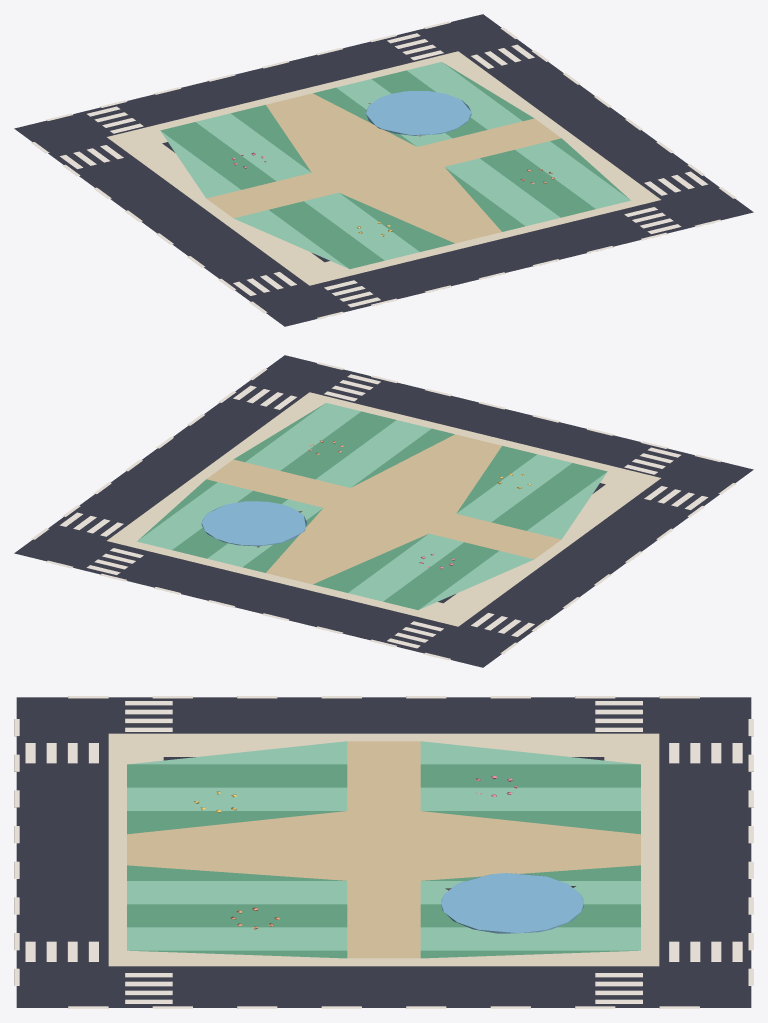
The model's file is tile_park.glb.
The picture shows the model from 3 angles, top to bottom: view 1: azimuth 30°, elevation 25°; view 2: azimuth 150°, elevation 25°; view 3: azimuth 270°, elevation 25°; orthographic projection. The views are drawn at different scales.
Visible parts, largest first — view 1: tile_park; view 2: tile_park; view 3: tile_park.
Part boxes in pixels (<box>): tile_park: <box>14,14,753,326</box>; tile_park: <box>14,355,753,667</box>; tile_park: <box>14,696,753,1008</box>.
Size of the model in its own units: 40.3 by 0.2853 by 40.3.
1 material, 1 textured.
